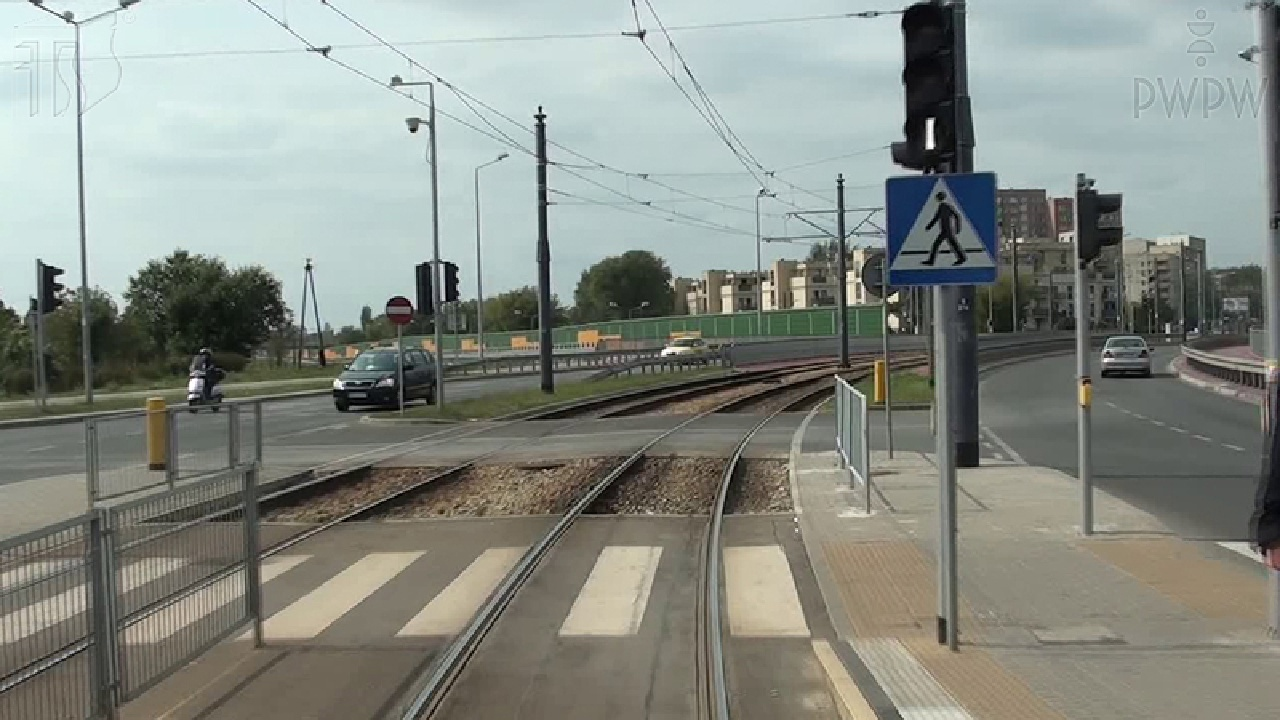D6: (879, 170, 1010, 284)
